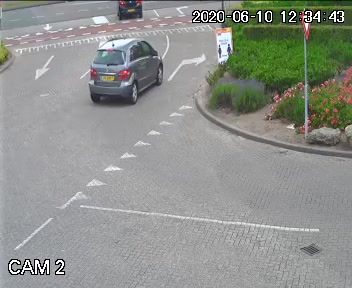car: (82, 41, 167, 111), (114, 0, 144, 24)
